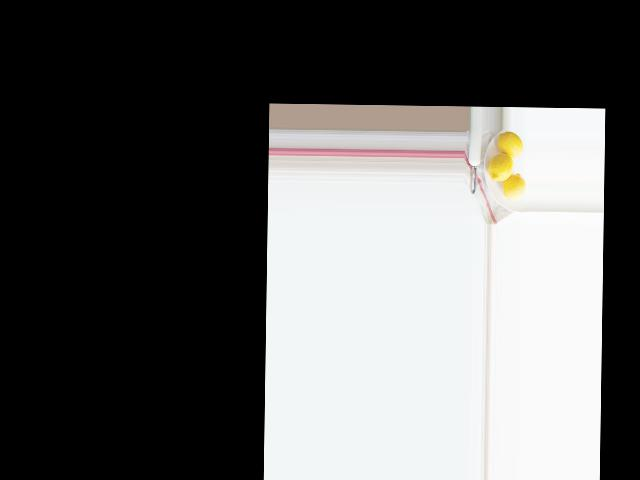lemon: (499, 129, 523, 158)
